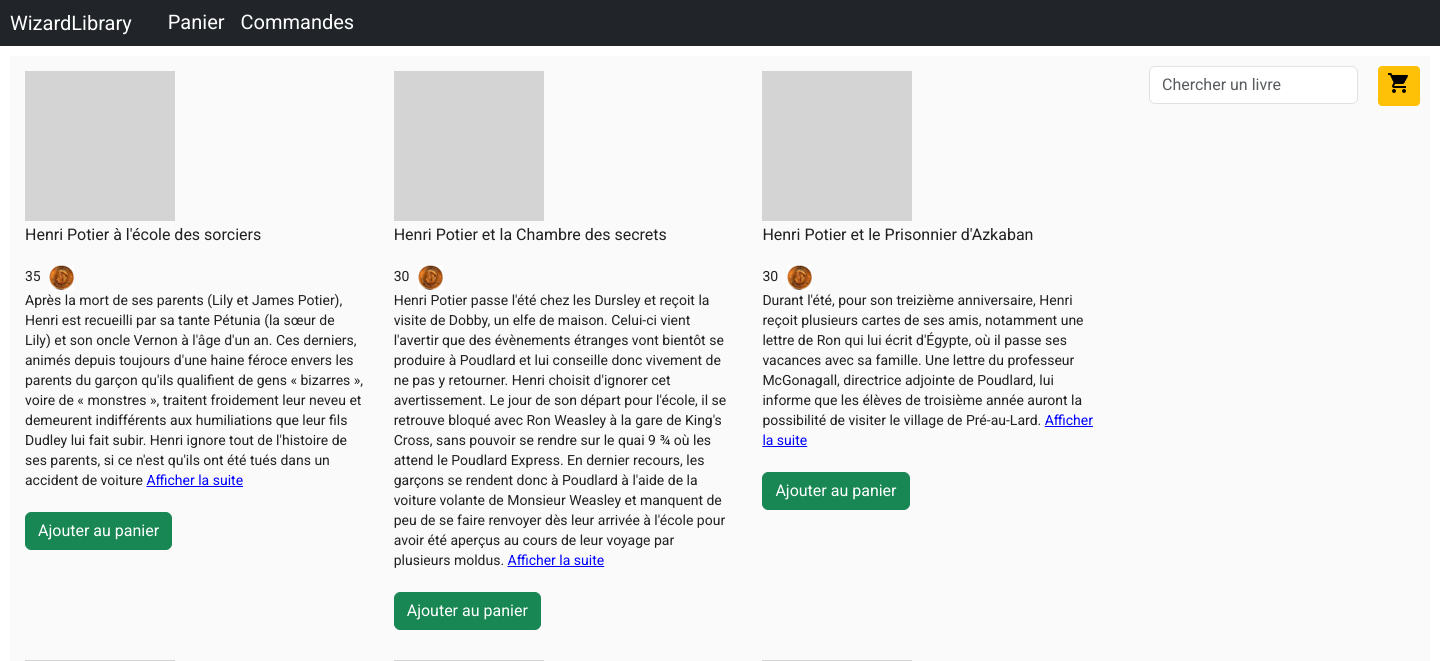
Test case: Tests du panier › Devrait naviguer vers la page du panier et vérifier qu'il est vide
The image size is (1440, 661).
Click the list item with id "navigateToCheckout". click: (197, 22)
box: 168,10 -> 225,34
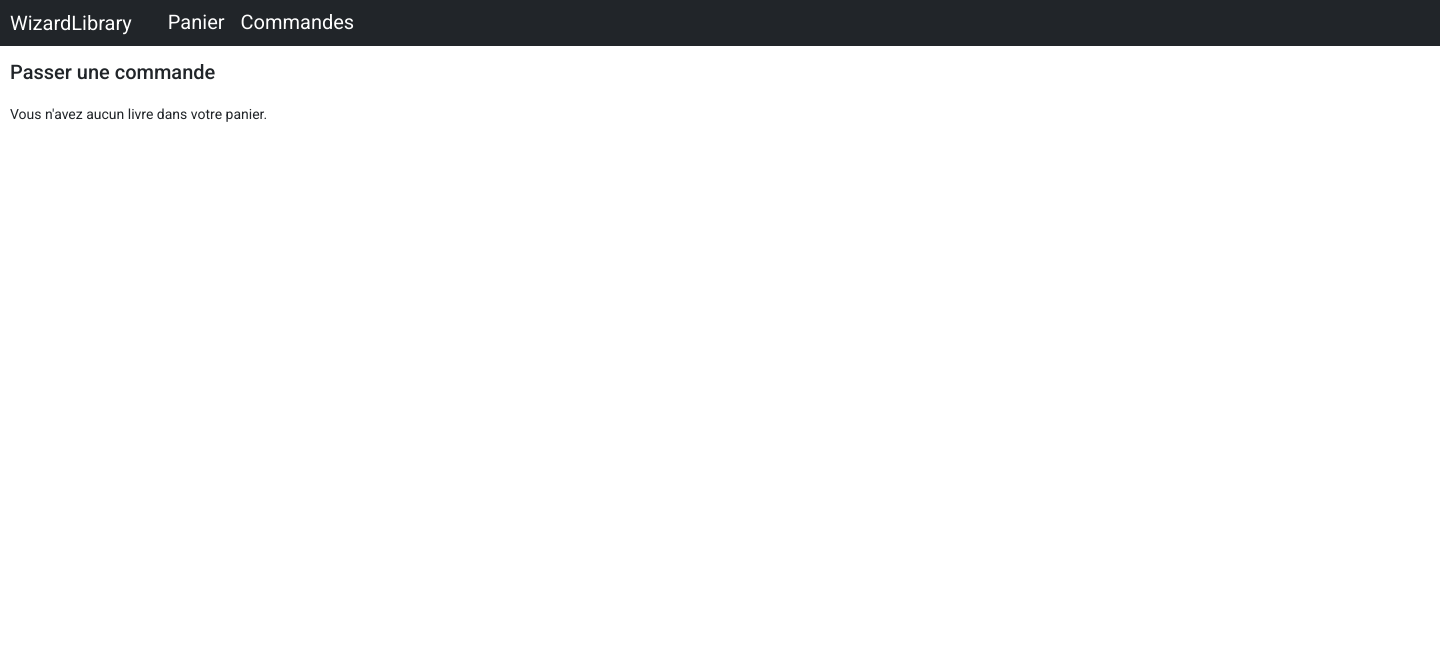
Expected: the heading "Passer une commande" is shown, 10,60 -> 215,84
Expected: the text "Vous n'avez aucun livre dans votre panier." is shown, 10,106 -> 267,122
